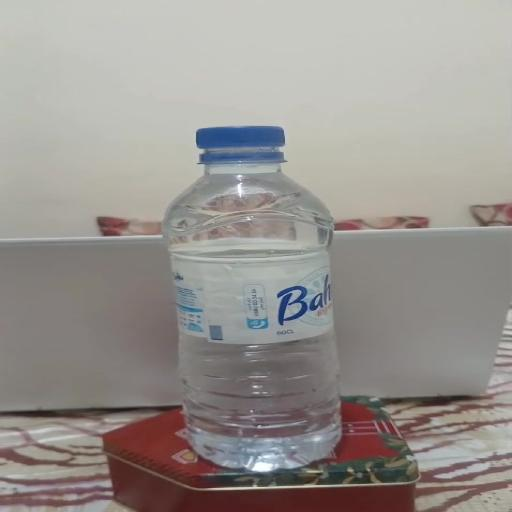bouteille non conformite: (162, 125, 343, 472), (170, 125, 311, 180)
